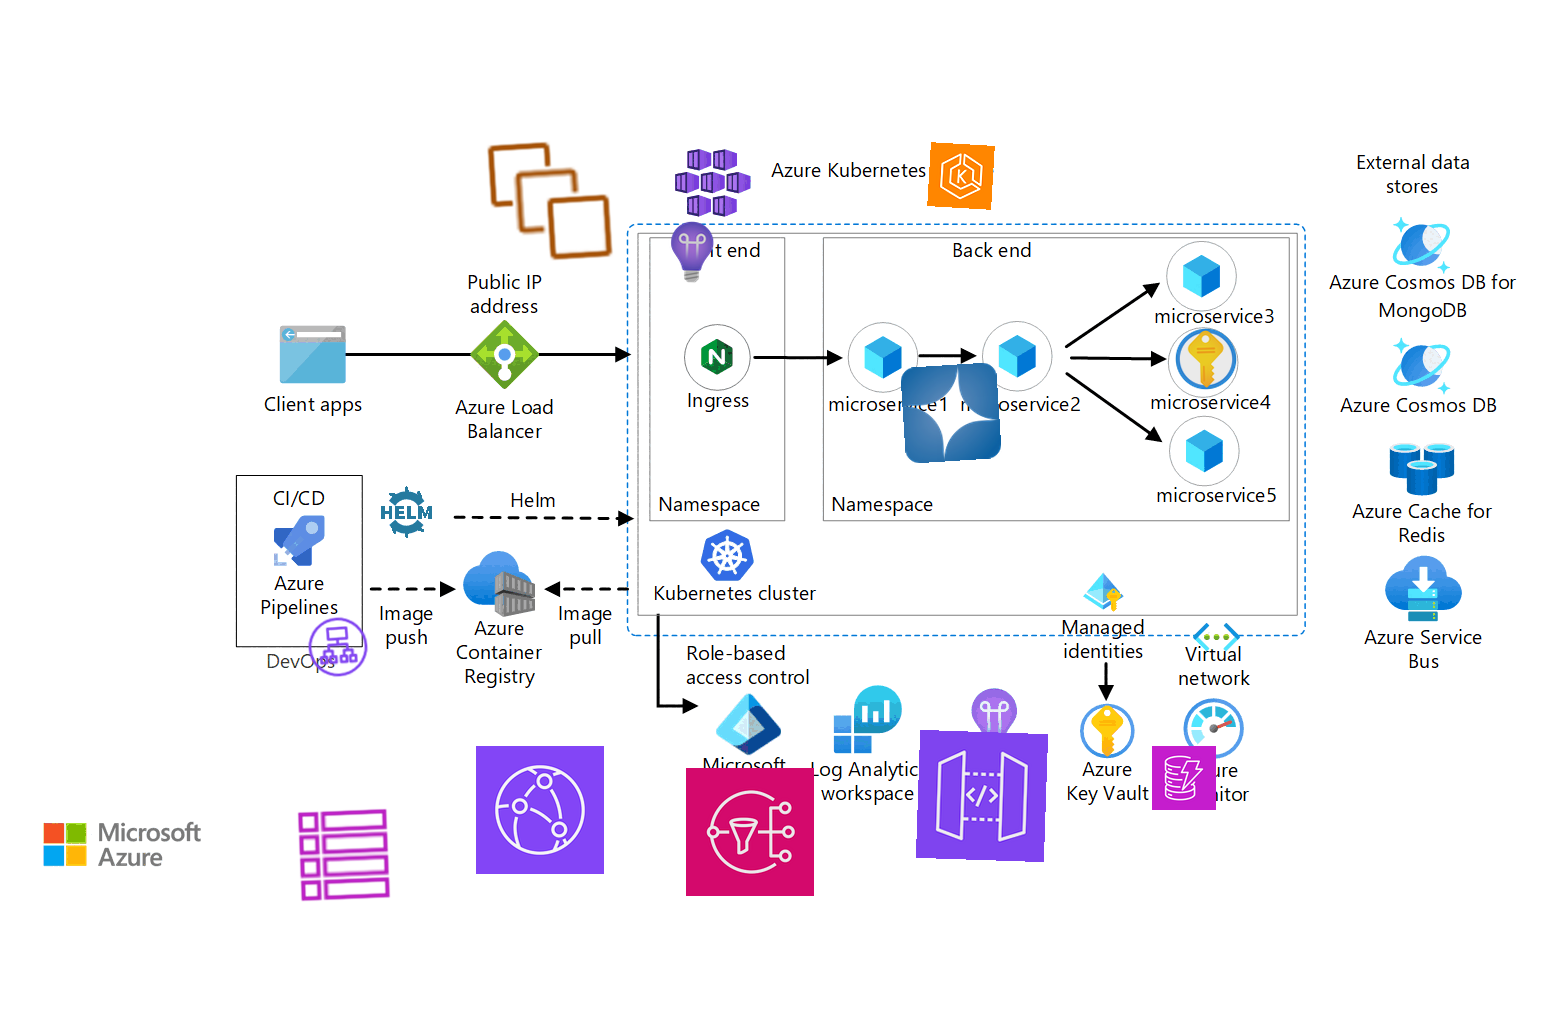aws_amazon_api_gateway: (915, 729, 1049, 863)
aws_amazon_cloudfront: (475, 745, 605, 875)
aws_amazon_dynamodb: (1151, 745, 1217, 812)
aws_amazon_elastic_kubernetes_service: (927, 142, 994, 210)
aws_amazon_simple_notification_service: (685, 767, 815, 897)
aws_dynamodb_table: (294, 805, 394, 906)
aws_ec2_instances: (482, 133, 618, 269)
aws_elastic_load_balancing_application_load_balancer: (302, 612, 374, 682)
azure_application_insights: (659, 219, 725, 285)
azure_key_vaults: (1173, 326, 1239, 392)
azure_openai: (899, 361, 1003, 465)
